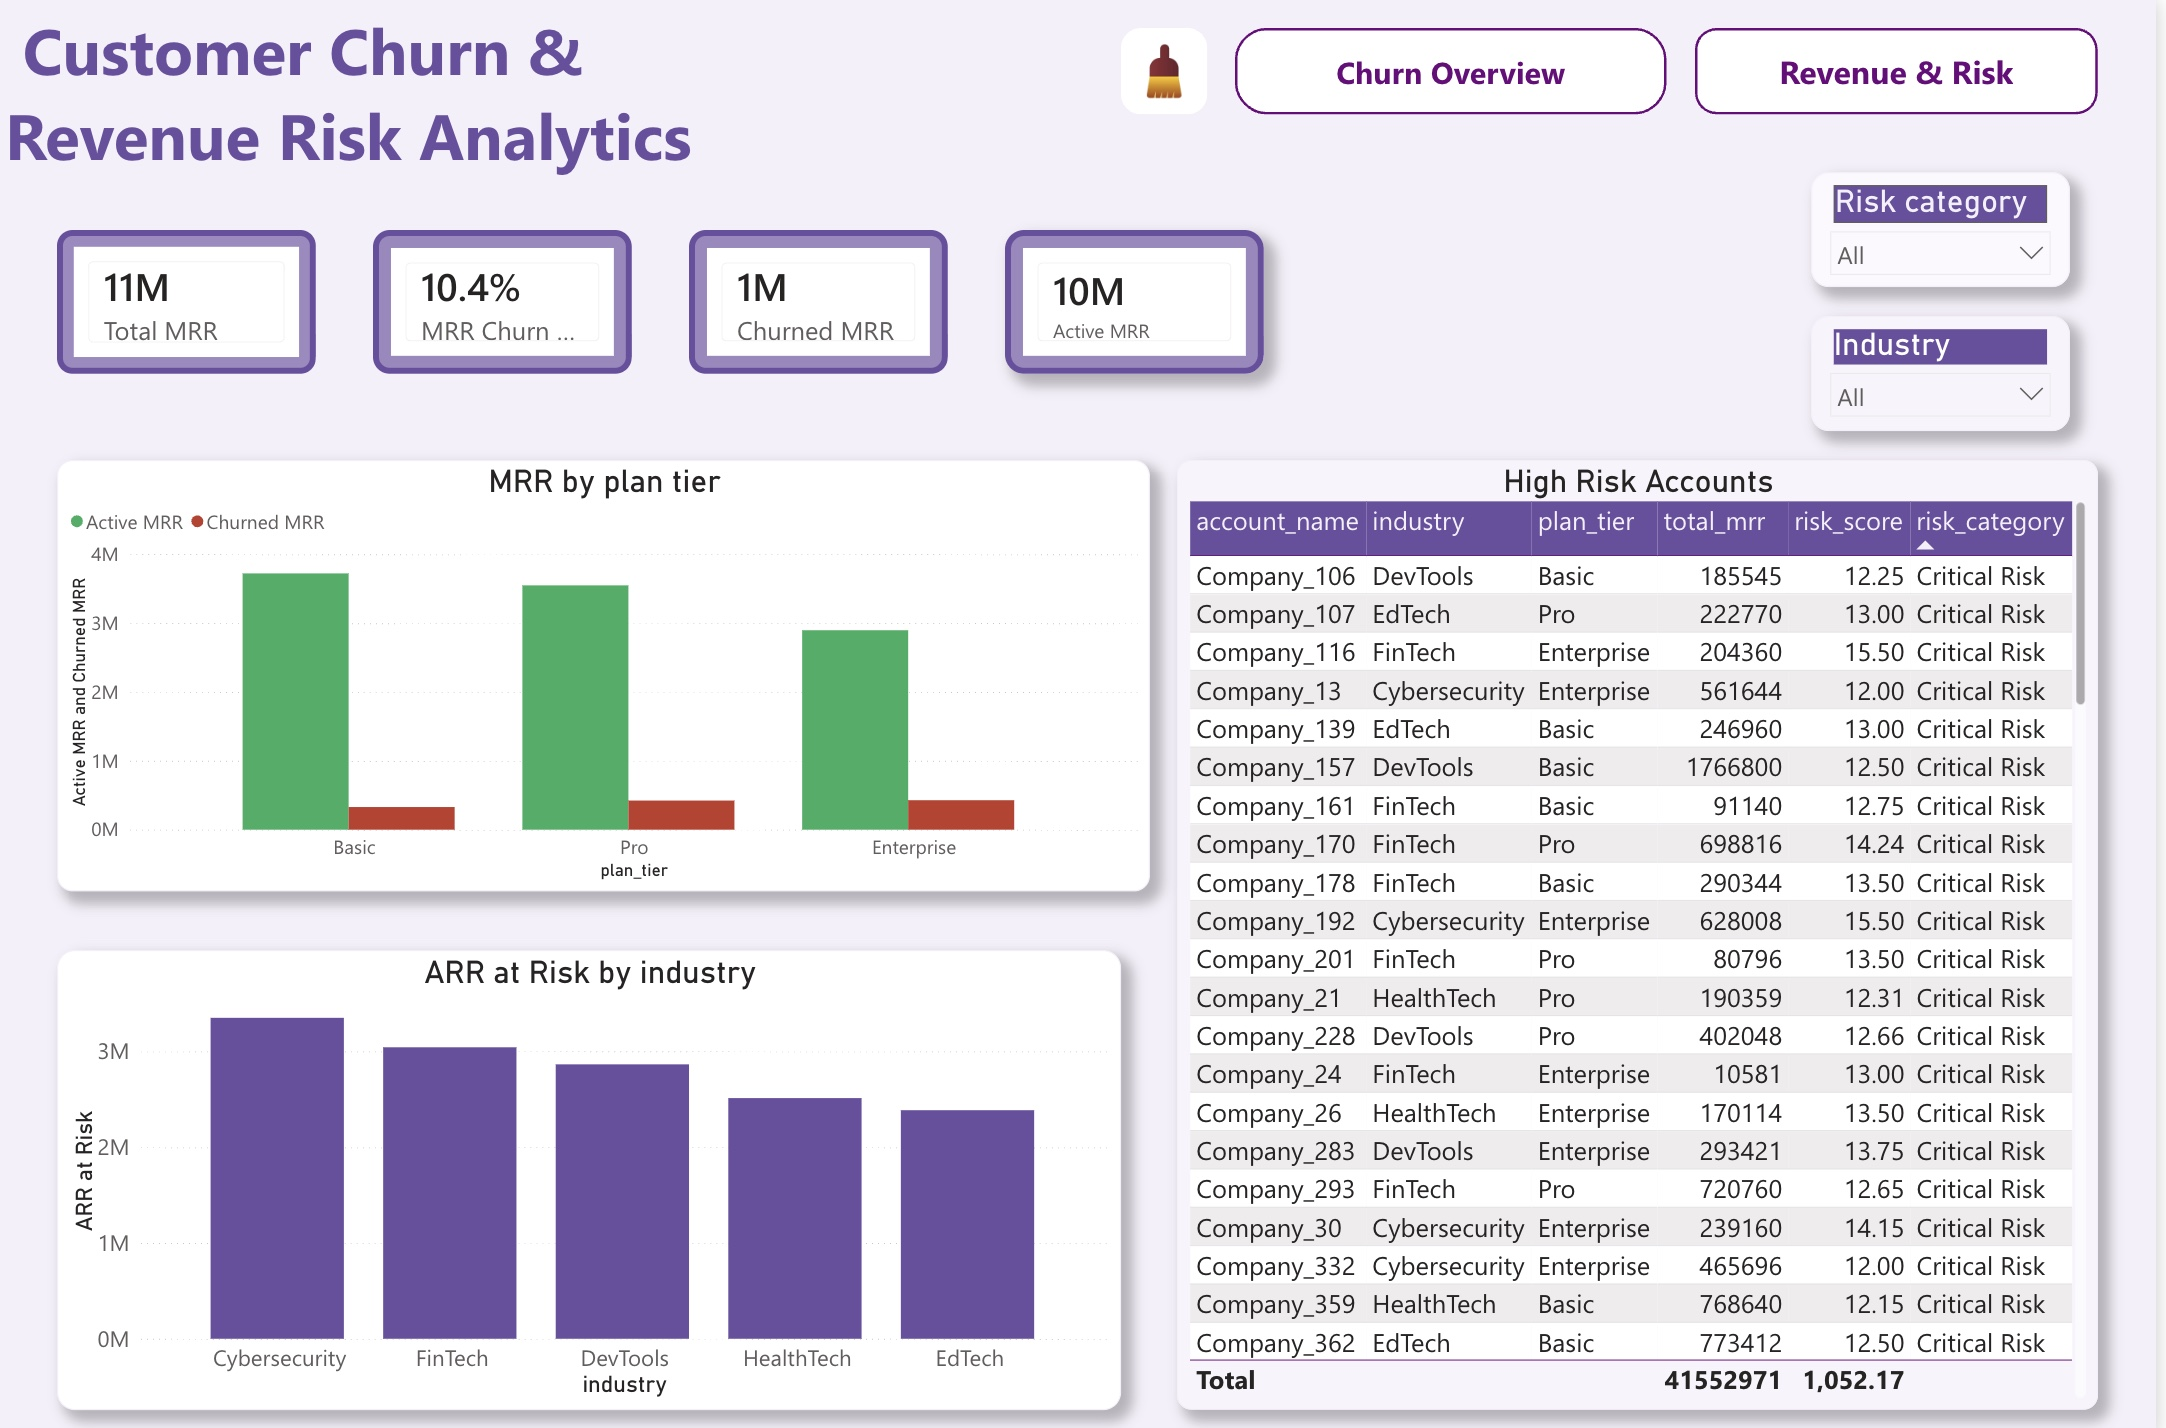

Layout of this report page (visuals, bound fields, positions):
{"tool":"powerbi","page":{"name":"Revenue and Risk","canvas":[1800,1200],"ordinal":1},"visuals":[{"type":"cardVisual","fields":{"Data":["_Measures.Total MRR"]},"box":[48,192,216,120],"z":0},{"type":"cardVisual","fields":{"Data":["_Measures.Churned MRR"]},"box":[576,192,216,120],"z":1000},{"type":"cardVisual","fields":{"Data":["_Measures.Active MRR"]},"box":[840,192,216,120],"z":2000},{"type":"cardVisual","fields":{"Data":["_Measures.MRR Churn Rate %"]},"box":[312,192,216,120],"z":3000},{"type":"clusteredColumnChart","title":"MRR by plan tier","fields":{"Category":["accounts_clean.plan_tier"],"Y":["_Measures.Active MRR","_Measures.Churned MRR"]},"box":[48,384,912,360],"z":4000},{"type":"tableEx","title":"High Risk Accounts ","fields":{"Values":["risk_scored_accounts.account_name","risk_scored_accounts.industry","risk_scored_accounts.plan_tier","Sum(risk_scored_accounts.total_mrr)","Sum(risk_scored_accounts.risk_score)","risk_scored_accounts.risk_category"]},"box":[983.3,383.3,768.5,792.6],"z":5000},{"type":"columnChart","fields":{"Category":["accounts_clean.industry"],"Y":["_Measures.ARR at Risk"]},"box":[48,792,888,384],"z":6000},{"type":"pageNavigator","box":[1032,24,360,72],"z":7000},{"type":"slicer","fields":{"Values":["accounts_clean.industry"]},"box":[1512,264,216,96],"z":8000},{"type":"slicer","fields":{"Values":["risk_scored_accounts.risk_category"]},"box":[1512,144,216,96],"z":9000},{"type":"textbox","box":[0,0,624,168],"z":10000},{"type":"actionButton","title":"Revenue","box":[1416,24,336,72],"z":11000},{"type":"actionButton","box":[936,24,72,72],"z":12000}]}

Visuals, with their boxes in screenshot pixels (x1, y1, x2, y2), scaled from the page's 1800x1200 canvas onto the 2166x1428 screenshot:
cardVisual - _Measures.Total MRR: detection(58, 228, 318, 371)
cardVisual - _Measures.Churned MRR: detection(693, 228, 953, 371)
cardVisual - _Measures.Active MRR: detection(1011, 228, 1271, 371)
cardVisual - _Measures.MRR Churn Rate %: detection(375, 228, 635, 371)
"MRR by plan tier" clusteredColumnChart: detection(58, 457, 1155, 885)
"High Risk Accounts " tableEx: detection(1183, 456, 2108, 1399)
columnChart - accounts_clean.industry x _Measures.ARR at Risk: detection(58, 942, 1126, 1399)
pageNavigator: detection(1242, 29, 1675, 114)
slicer - accounts_clean.industry: detection(1819, 314, 2079, 428)
slicer - risk_scored_accounts.risk_category: detection(1819, 171, 2079, 286)
textbox: detection(0, 0, 751, 200)
"Revenue" actionButton: detection(1704, 29, 2108, 114)
actionButton: detection(1126, 29, 1213, 114)
